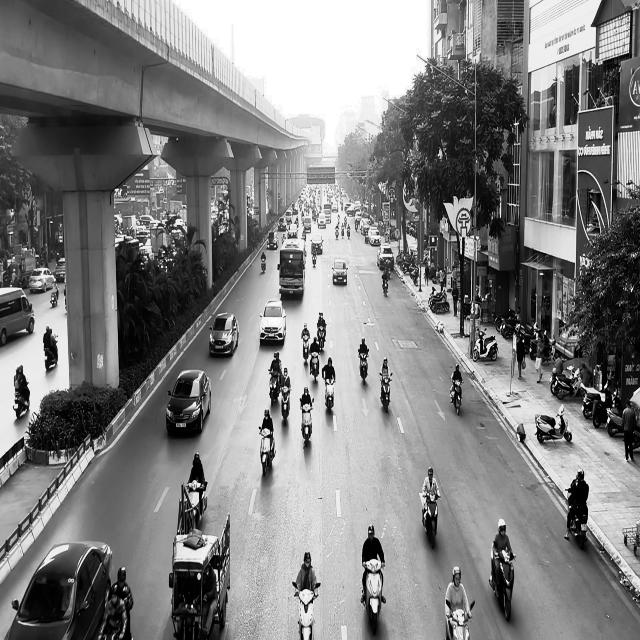car: (6, 540, 114, 640), (166, 369, 212, 435), (209, 312, 239, 356), (259, 299, 287, 345), (332, 259, 348, 285)
motorbike: (489, 543, 517, 622), (362, 558, 386, 634), (293, 581, 321, 639), (535, 404, 572, 443), (565, 488, 588, 548), (420, 491, 441, 549), (445, 600, 475, 639), (259, 427, 276, 476), (472, 329, 498, 361), (13, 380, 30, 418), (301, 399, 314, 446), (44, 334, 59, 370), (380, 371, 393, 412), (450, 380, 464, 416), (269, 370, 282, 405), (280, 385, 291, 425), (324, 376, 336, 411), (358, 350, 369, 384), (310, 351, 320, 383), (317, 322, 327, 350), (302, 334, 311, 362), (382, 274, 389, 296), (312, 245, 318, 266)
